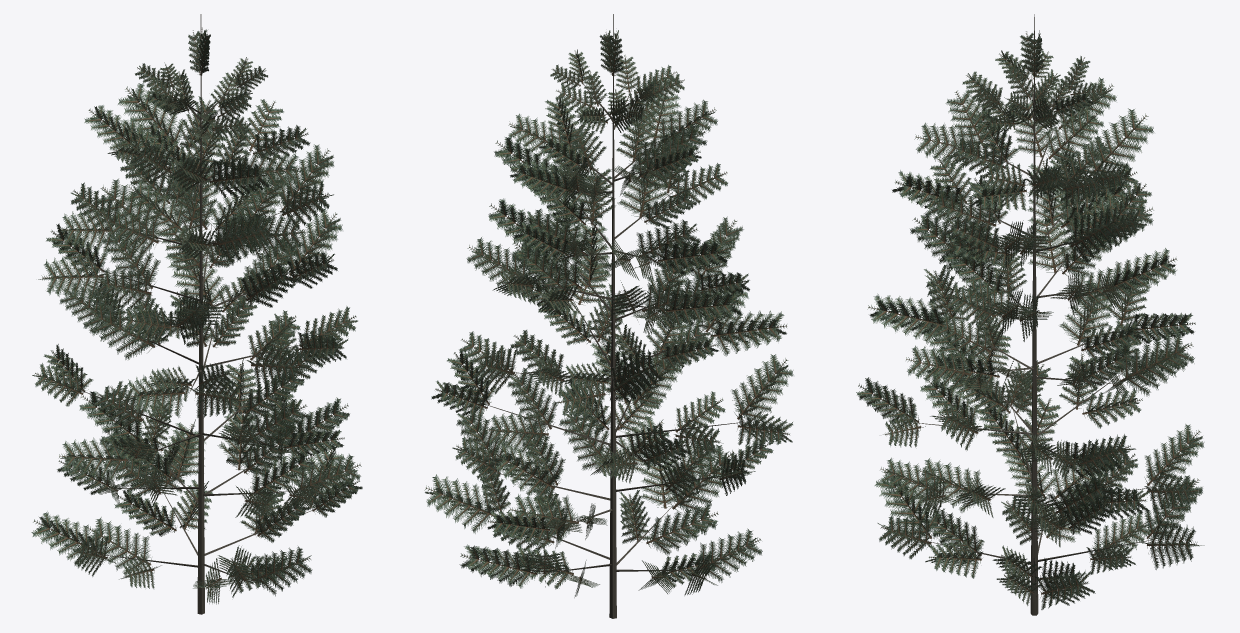
Rendered from Sitka_Seedling_01_LOD1.fbx.
The picture shows the model from 3 angles, left to right: view 1: azimuth 30°, elevation 25°; view 2: azimuth 150°, elevation 25°; view 3: azimuth 270°, elevation 25°; orthographic projection.
Parts seen in each view (by area): view 1: Sitka_Seedling_01_LOD1_Foliage, Sitka_Seedling_01_LOD1_Branches, Sitka_Seedling_01_LOD1_Stem; view 2: Sitka_Seedling_01_LOD1_Foliage, Sitka_Seedling_01_LOD1_Branches, Sitka_Seedling_01_LOD1_Stem; view 3: Sitka_Seedling_01_LOD1_Foliage, Sitka_Seedling_01_LOD1_Branches, Sitka_Seedling_01_LOD1_Stem.
Boxes of the visible parts, box(x1,y1,x2,y2) form: Sitka_Seedling_01_LOD1_Foliage: box(31, 27, 362, 604); Sitka_Seedling_01_LOD1_Branches: box(75, 83, 312, 582); Sitka_Seedling_01_LOD1_Stem: box(197, 14, 204, 614); Sitka_Seedling_01_LOD1_Foliage: box(424, 30, 793, 597); Sitka_Seedling_01_LOD1_Branches: box(486, 80, 746, 574); Sitka_Seedling_01_LOD1_Stem: box(609, 14, 616, 618); Sitka_Seedling_01_LOD1_Foliage: box(856, 30, 1204, 609); Sitka_Seedling_01_LOD1_Branches: box(912, 75, 1152, 597); Sitka_Seedling_01_LOD1_Stem: box(1030, 14, 1038, 615).
Size of the model in its own units: 61.91 by 100 by 58.27.
